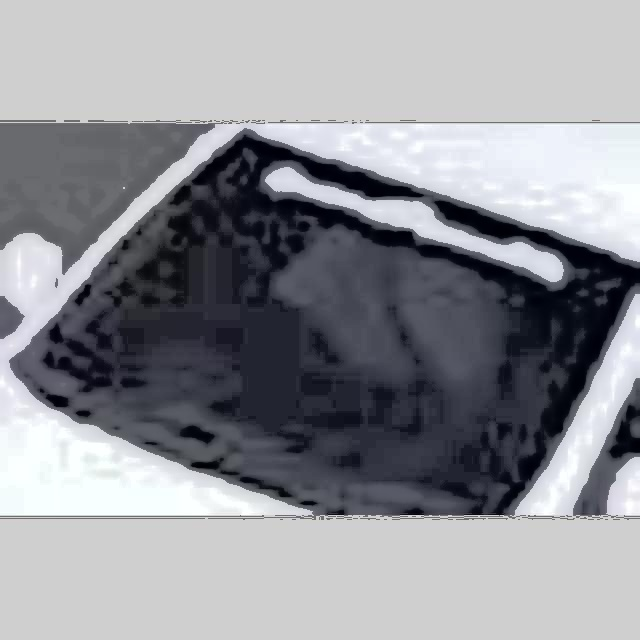pakai: (256, 214, 504, 433)
